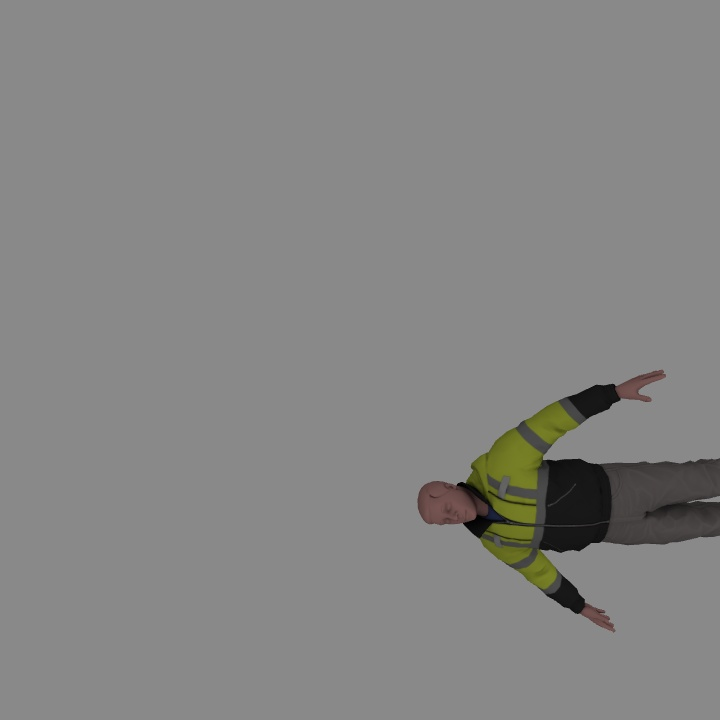victim: (418, 371, 720, 633)
